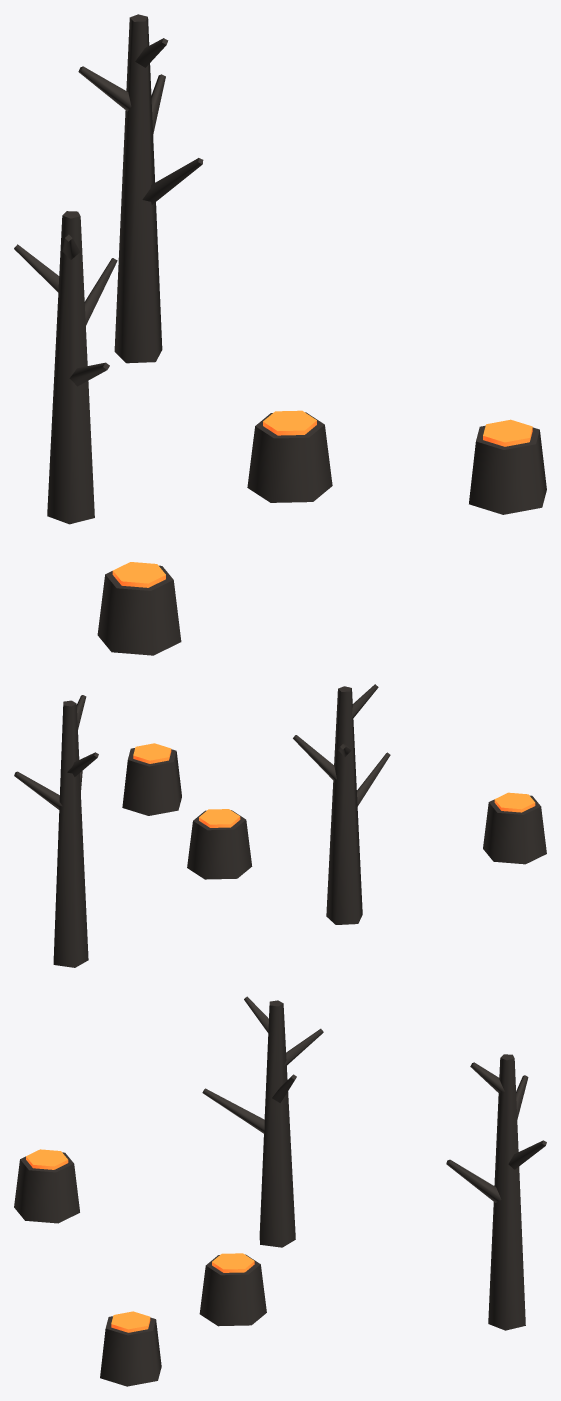
File: sawyer_dead_snags_b.glb
The picture shows the model from 3 angles, top to bottom: view 1: azimuth 30°, elevation 25°; view 2: azimuth 150°, elevation 25°; view 3: azimuth 270°, elevation 25°; orthographic projection. The views are drawn at different scales.
Parts seen in each view (by area): view 1: dead_1_trunk, dead_0_trunk, stump_2_stump, stump_4_stump, stump_3_stump, stump_2_ember, stump_4_ember, stump_3_ember, dead_1_branch0, dead_1_branch2; view 2: dead_1_trunk, dead_0_trunk, stump_2_stump, stump_4_stump, stump_3_stump, stump_4_ember, stump_2_ember, stump_3_ember, dead_1_branch1, dead_0_branch1, dead_0_branch0; view 3: dead_1_trunk, dead_0_trunk, stump_2_stump, stump_4_stump, stump_3_stump, dead_0_branch0, stump_2_ember, stump_4_ember, stump_3_ember, dead_1_branch0.
Boxes of the visible parts, x1,y1,x2,y2 form: dead_1_trunk: [114, 14, 162, 363]; dead_0_trunk: [47, 211, 94, 524]; stump_2_stump: [247, 412, 332, 502]; stump_4_stump: [97, 565, 181, 655]; stump_3_stump: [469, 425, 546, 514]; stump_2_ember: [263, 410, 316, 435]; stump_4_ember: [112, 562, 165, 587]; stump_3_ember: [483, 419, 532, 446]; dead_1_branch0: [142, 158, 203, 204]; dead_1_branch2: [78, 66, 131, 111]; dead_1_trunk: [53, 700, 88, 967]; dead_0_trunk: [326, 686, 362, 924]; stump_2_stump: [187, 810, 252, 879]; stump_4_stump: [483, 795, 546, 864]; stump_3_stump: [122, 748, 181, 815]; stump_4_ember: [494, 792, 535, 812]; stump_2_ember: [199, 809, 240, 827]; stump_3_ember: [133, 743, 171, 763]; dead_1_branch1: [14, 771, 62, 809]; dead_0_branch1: [293, 735, 336, 780]; dead_0_branch0: [357, 752, 390, 806]; dead_1_trunk: [488, 1054, 525, 1330]; dead_0_trunk: [259, 1000, 295, 1247]; stump_2_stump: [199, 1254, 266, 1326]; stump_4_stump: [14, 1152, 79, 1223]; stump_3_stump: [100, 1316, 161, 1386]; dead_0_branch0: [202, 1088, 264, 1133]; stump_2_ember: [212, 1253, 254, 1272]; stump_4_ember: [26, 1149, 68, 1169]; stump_3_ember: [111, 1311, 150, 1332]; dead_1_branch0: [446, 1159, 501, 1202].
Size of the model in its own units: 2.93 by 1.91 by 3.48.
